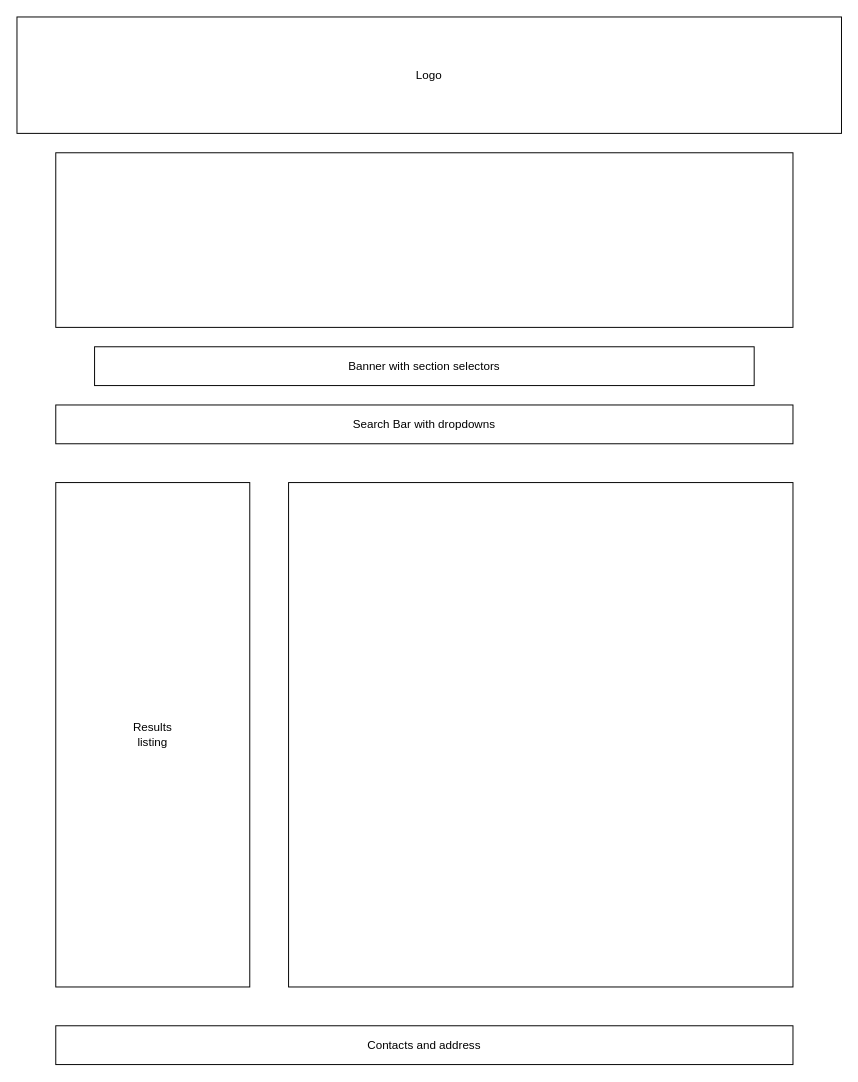
This 858x1082 diagram has some shape labels left out. Here are the shapes that lost their labels. From the top down, the box of each, then its label:
(55, 152, 793, 327): Store Picture
(288, 482, 793, 987): Product description and reviews
